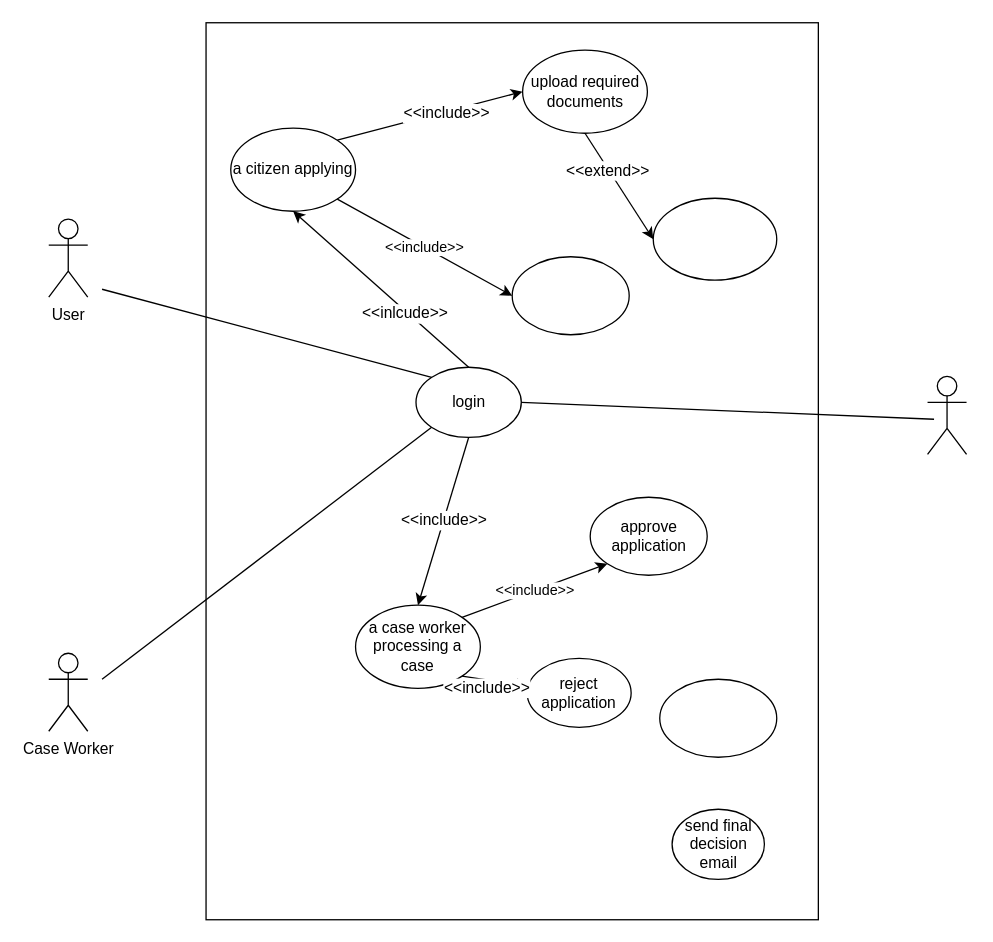
The diagram is 993 pixels wide and 942 high, and some of its shapes have lost their labels. The shapes that lost their labels are listed below. From the top down, each one's centre as x and y in pixels, then its label:
[714,238]: provide doctor confirmation
[570,295]: entering required form data
[946,414]: NemID
[717,717]: Calculation of compensation
